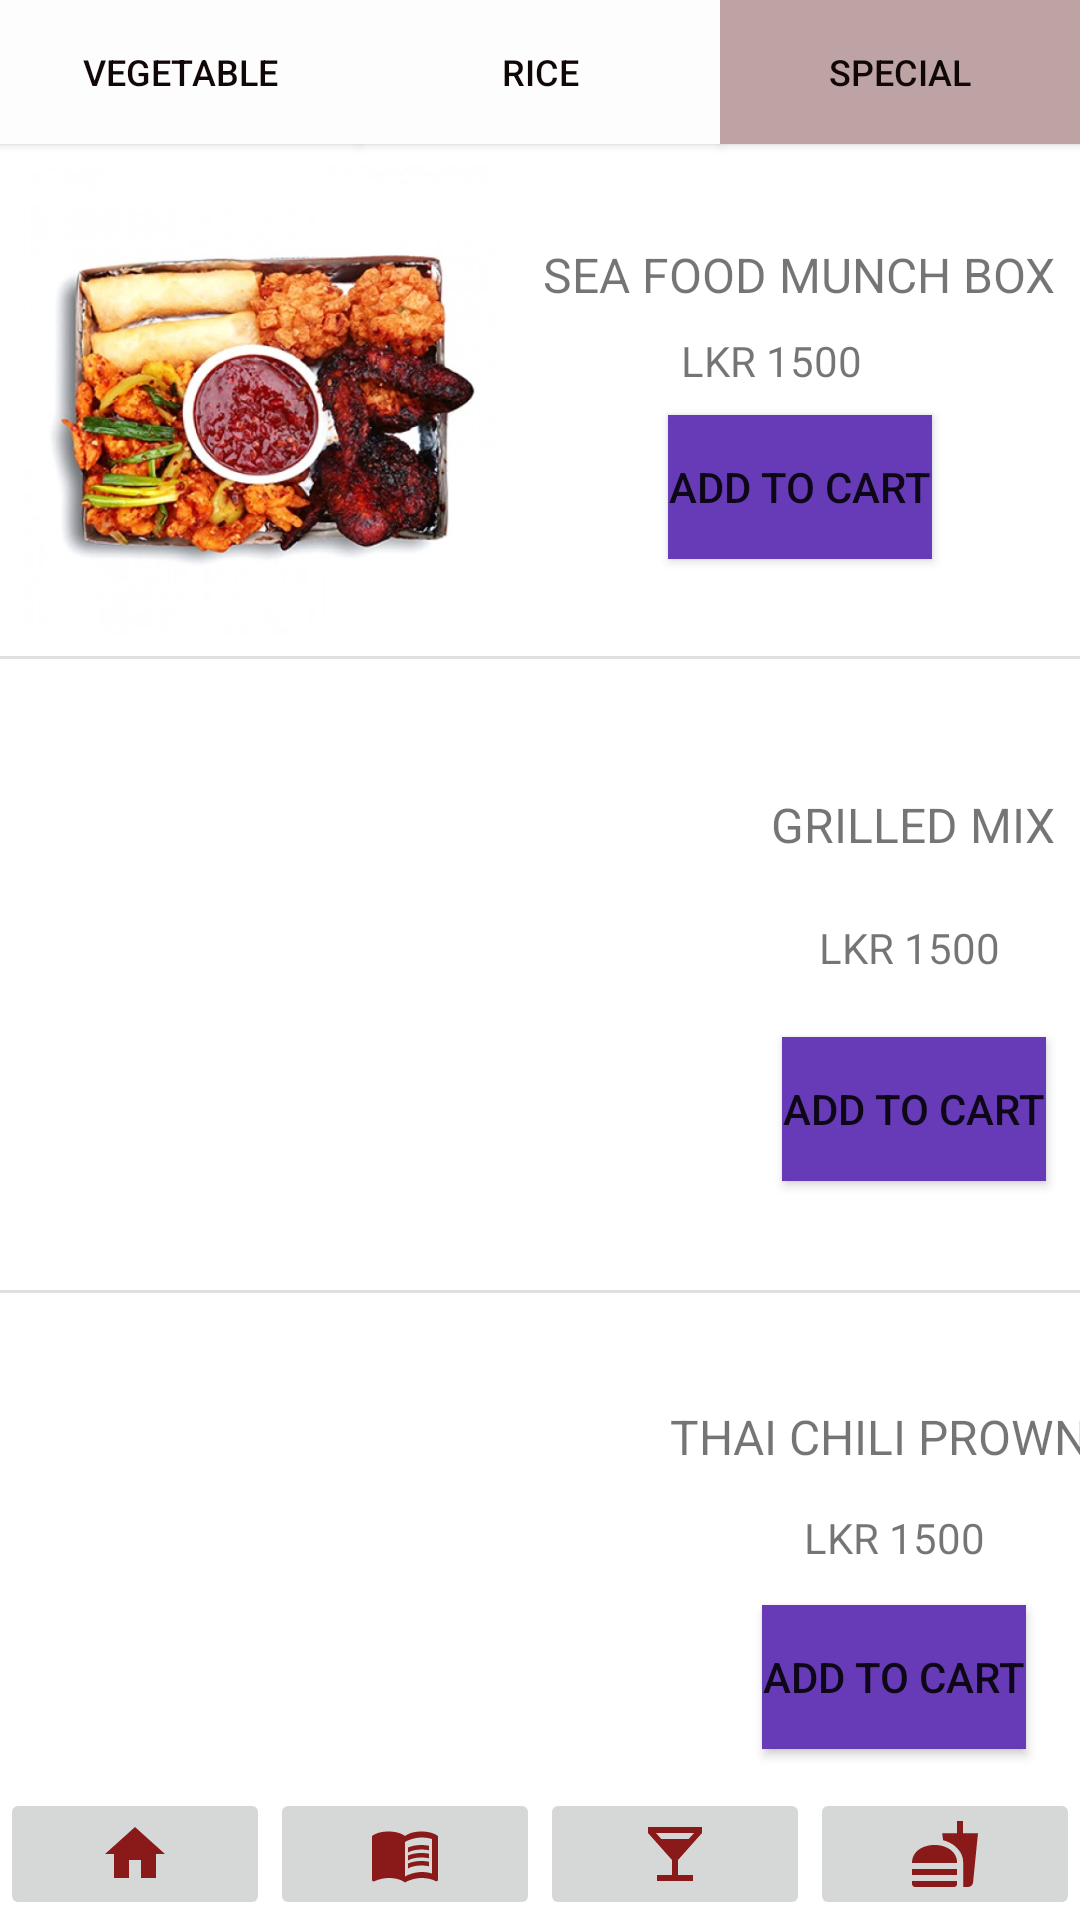

Icon bounding boxes for this 1080w x 1920h phone screenshot, format bbox(x1, y1, x2, y2):
book: bbox(282, 1806, 528, 1902)
fastfood: bbox(822, 1806, 1068, 1902)
home: bbox(12, 1806, 258, 1902)
local bar: bbox(552, 1806, 798, 1902)
